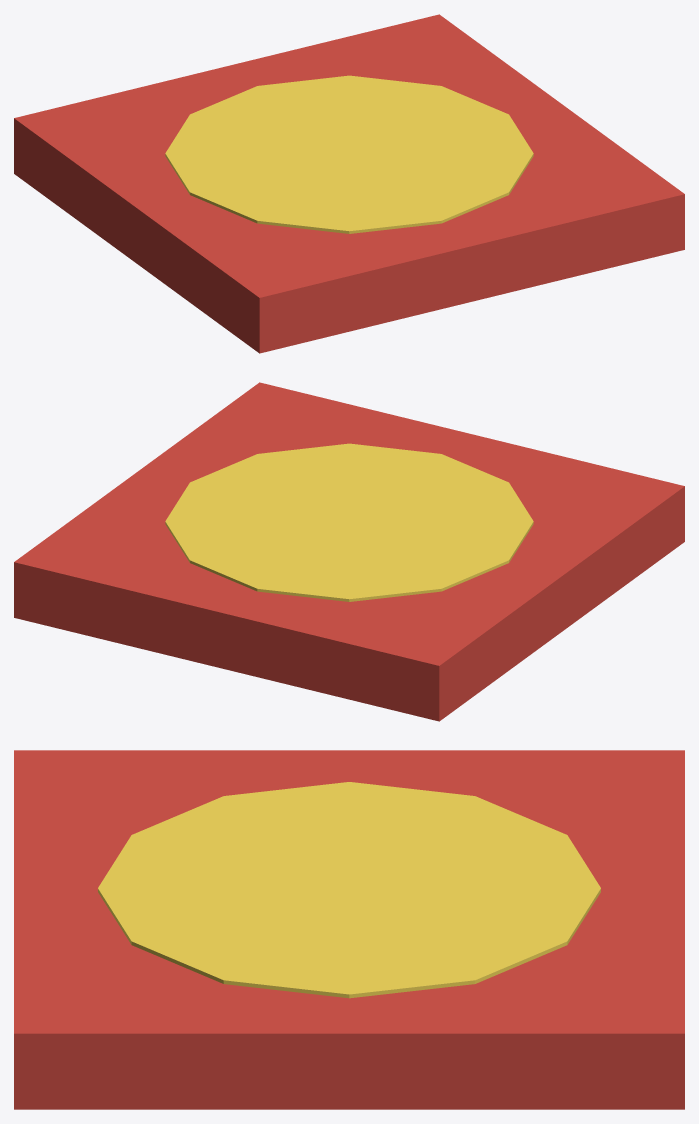
The model's file is sm_product_frozen_pizza.glb.
3 views of the same model, one above another, from view 1: azimuth 30°, elevation 25°; view 2: azimuth 150°, elevation 25°; view 3: azimuth 270°, elevation 25° (orthographic). The views are drawn at different scales.
Parts seen in each view (by area): view 1: frozen_pizza_0, frozen_pizza_1; view 2: frozen_pizza_0, frozen_pizza_1; view 3: frozen_pizza_0, frozen_pizza_1.
Boxes of the visible parts, x1=… form: frozen_pizza_0: x1=14, y1=14, x2=684, y2=353; frozen_pizza_1: x1=165, y1=75, x2=533, y2=233; frozen_pizza_0: x1=14, y1=382, x2=684, y2=721; frozen_pizza_1: x1=165, y1=443, x2=533, y2=601; frozen_pizza_0: x1=14, y1=750, x2=684, y2=1109; frozen_pizza_1: x1=98, y1=782, x2=600, y2=998.
Size of what is drawn, in the model's own units: 0.32 by 0.042 by 0.32.
